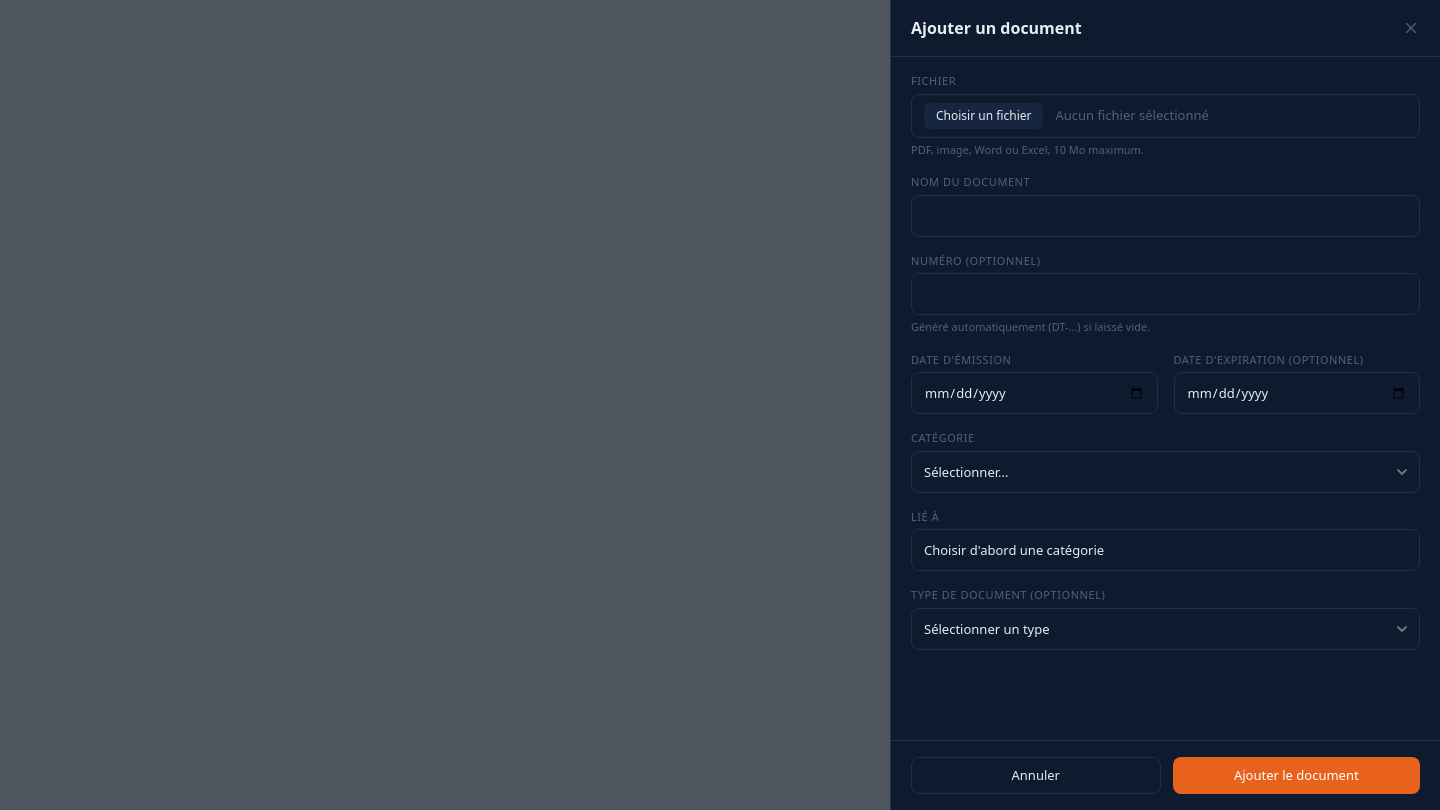
it: NewDocumentDrawer › when open › fetches tanks when the Citerne category is selected
Select "Citerne" in the dropdown labelled "Catégorie" at (1166, 472), box left=911, top=450, right=1420, bottom=492
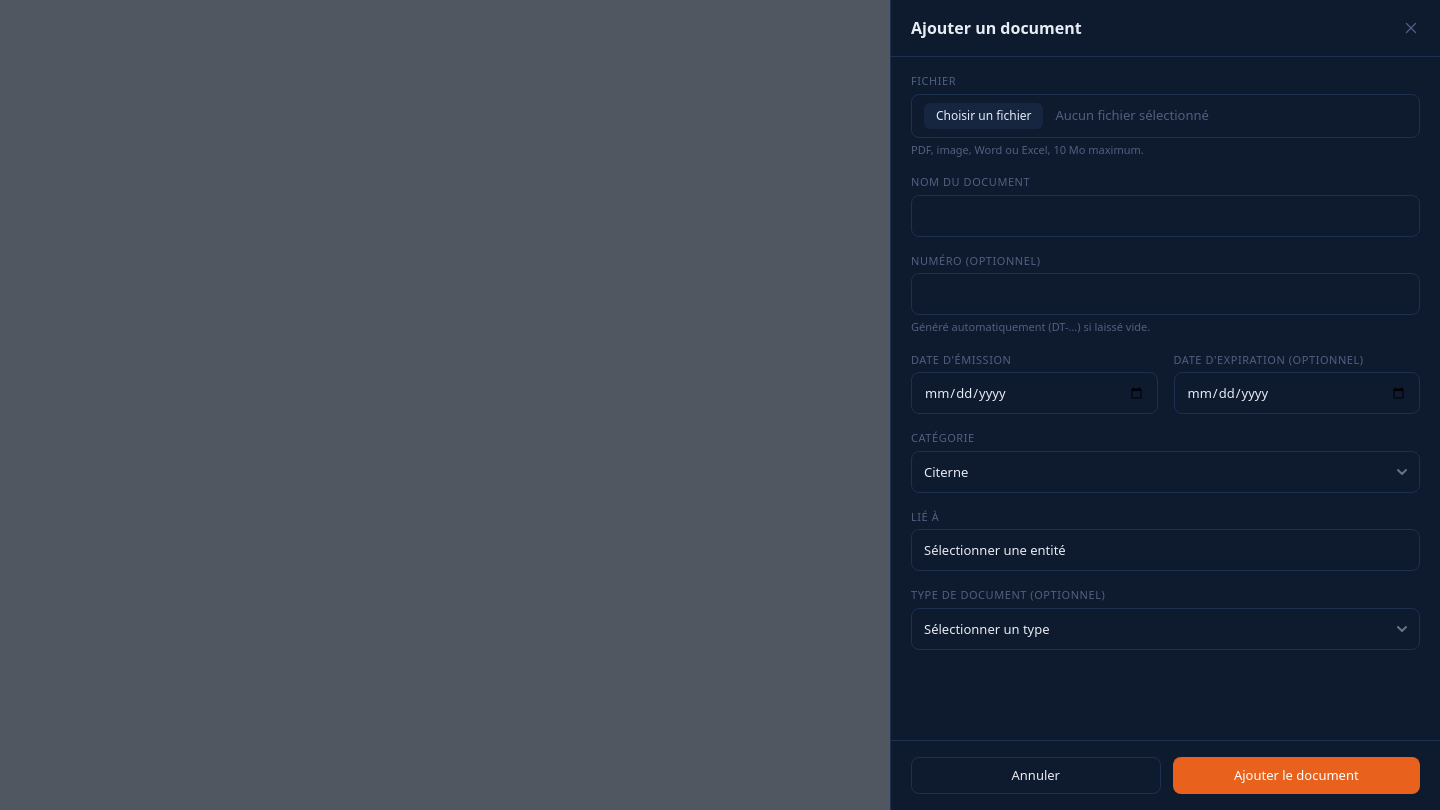
Focus the dropdown labelled "Lié à" at (1166, 550), box left=911, top=529, right=1420, bottom=571
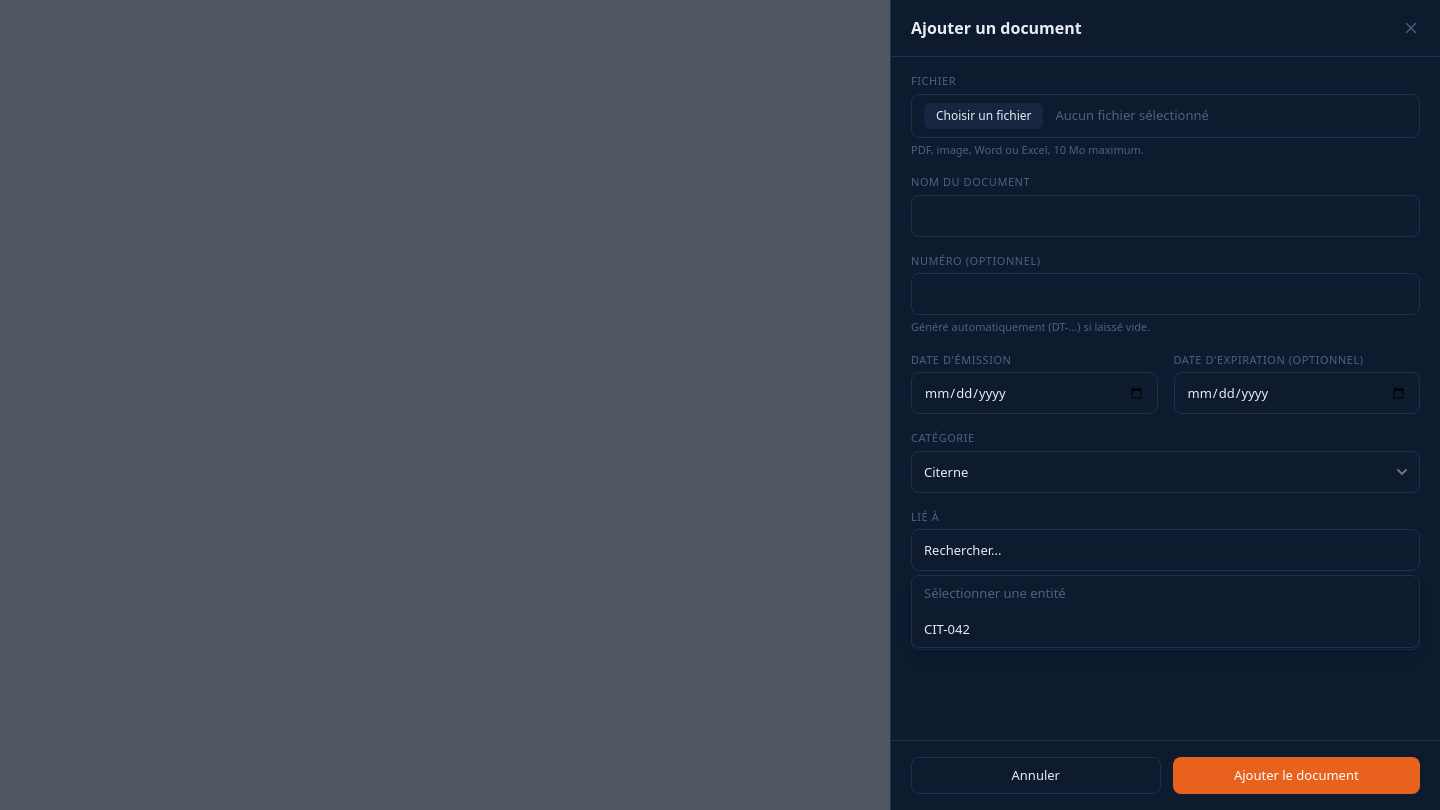
Check: the button "CIT-042" is shown, box left=912, top=612, right=1419, bottom=647
